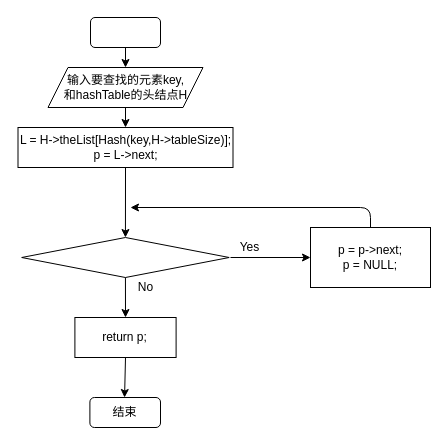
The diagram is 448 pixels wide and 445 high, and some of its shapes have lost their labels. The shapes that lost their labels are listed below. From the top down, each one's centre as x and y in pixels, then its label:
[125,32]: 开始
[125,257]: p!=NULL && p->element!=key
